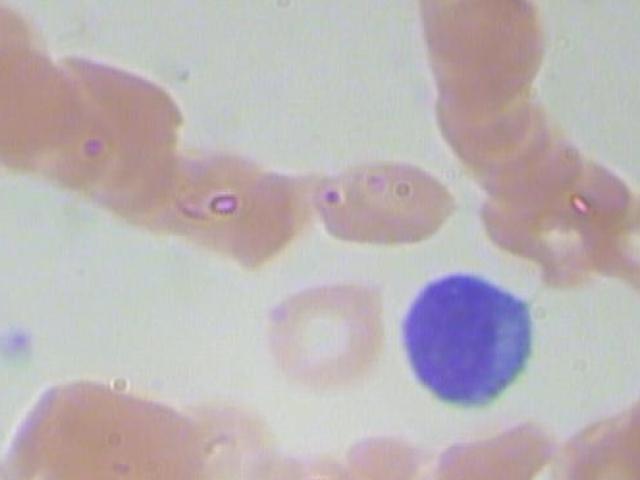RBC: (303, 147, 469, 247), (255, 279, 393, 392), (136, 146, 272, 248), (413, 0, 542, 78), (0, 42, 85, 143), (550, 417, 640, 480), (251, 451, 387, 480), (74, 460, 203, 480), (394, 470, 522, 480)
WBC: (398, 269, 547, 414)
